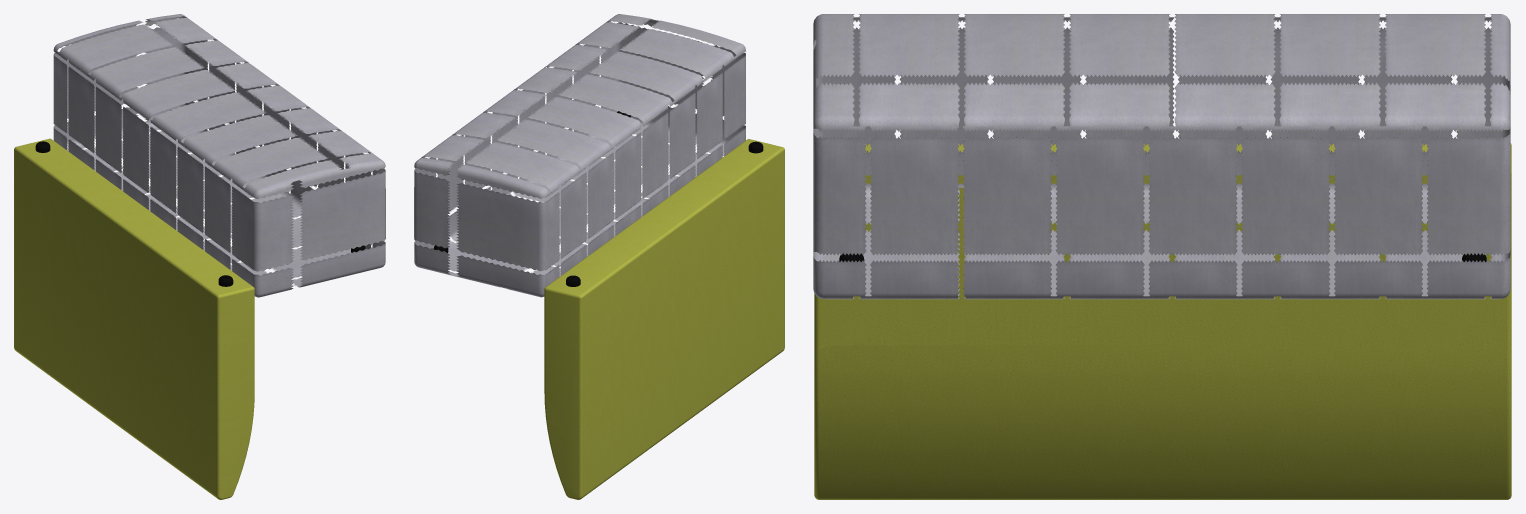
The model's file is Myn Sofa.FBX.
The picture shows the model from 3 angles, left to right: view 1: azimuth 30°, elevation 25°; view 2: azimuth 150°, elevation 25°; view 3: azimuth 270°, elevation 25°; orthographic projection. The views are drawn at different scales.
Parts seen in each view (by area): view 1: ChamferBox002, MYN SOFA001; view 2: ChamferBox002, MYN SOFA001, Object051; view 3: ChamferBox002, MYN SOFA001.
Part boxes in pixels (left/top/right/bottom): ChamferBox002: left=53, top=14, right=385, bottom=297; MYN SOFA001: left=14, top=138, right=254, bottom=499; ChamferBox002: left=414, top=14, right=745, bottom=297; MYN SOFA001: left=544, top=139, right=784, bottom=499; Object051: left=433, top=111, right=763, bottom=286; ChamferBox002: left=813, top=14, right=1510, bottom=299; MYN SOFA001: left=814, top=143, right=1511, bottom=499.
Bounding box in the file's own units: 671 × 1145 × 1402.
3 materials, 2 textured.
